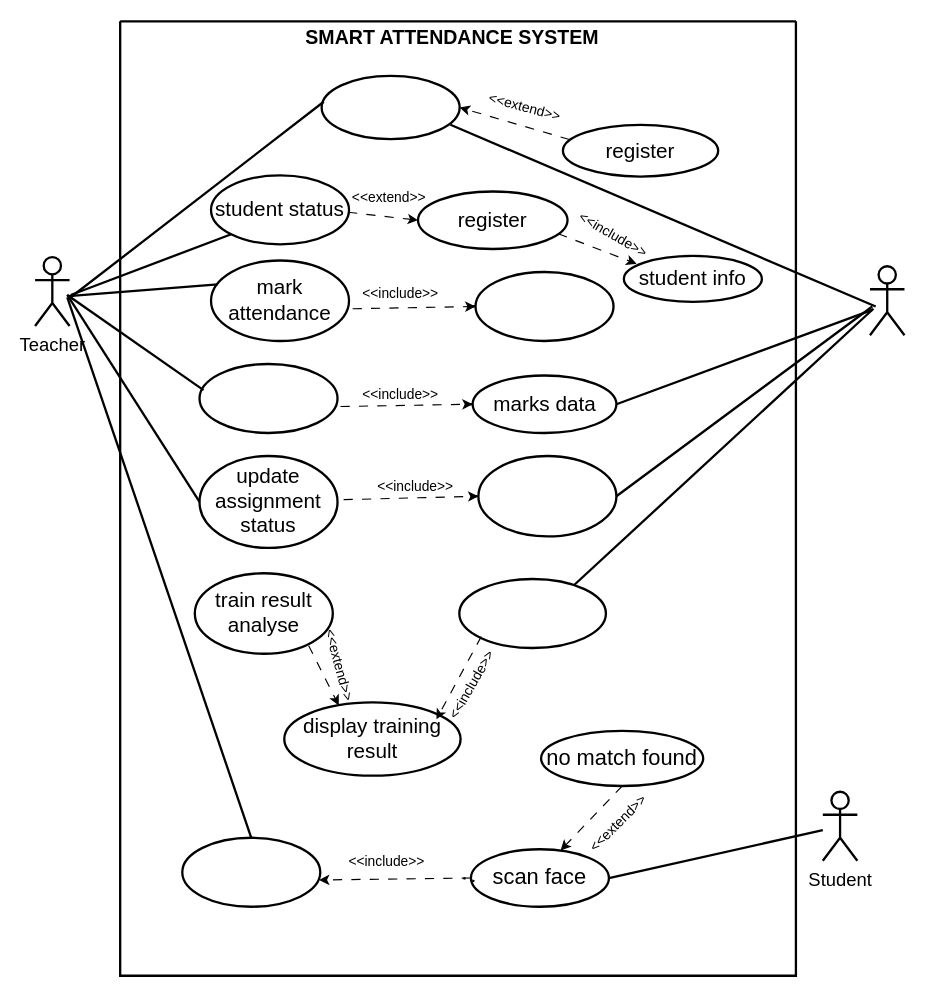
The diagram is 933 pixels wide and 996 high, and some of its shapes have lost their labels. Each missing label, with the centre of its shape:
"Admin" belongs at point 886,300.
"assignment data" belongs at point 547,495.
"attendance data" belongs at point 544,306.
"attendance info" belongs at point 251,871.
"login" belongs at point 390,107.
"train image" belongs at point 532,613.
"update marks" belongs at point 268,398.
